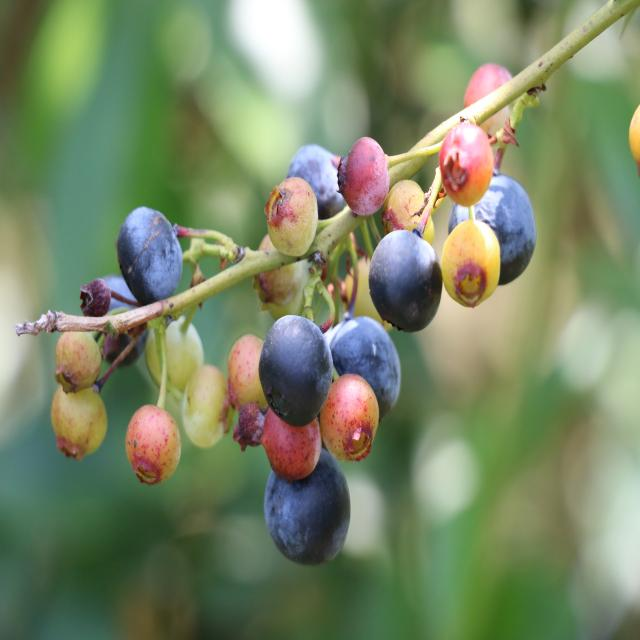blueberry: (447, 170, 541, 286), (260, 450, 354, 562), (323, 306, 405, 420), (257, 313, 335, 426), (367, 228, 441, 334), (118, 205, 182, 305), (86, 276, 149, 364), (287, 144, 352, 226)
blueberry-halfripe: (319, 371, 374, 460), (126, 408, 187, 486), (266, 175, 319, 259), (258, 410, 320, 476), (340, 134, 388, 218), (466, 55, 518, 131), (440, 127, 490, 206), (226, 331, 268, 416)
blueberry-unripe: (446, 221, 499, 309), (49, 384, 107, 459), (144, 320, 207, 386), (179, 365, 229, 443), (389, 177, 438, 245), (52, 331, 102, 387)
